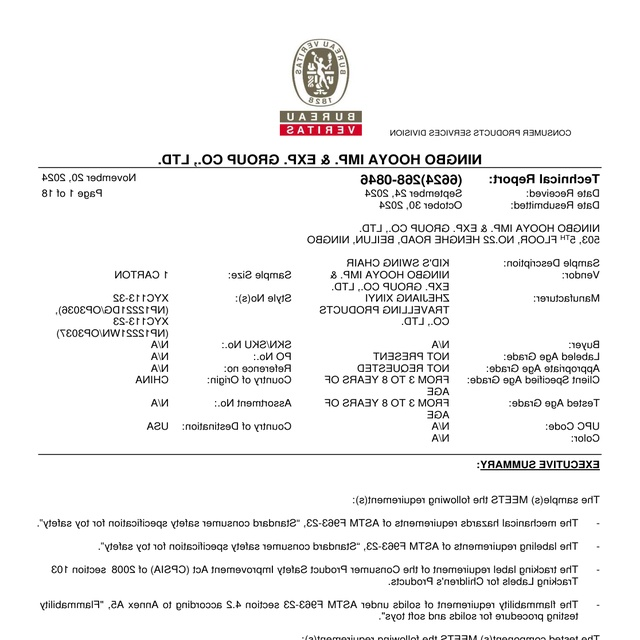bureau_veritas: (278, 37, 364, 137)
